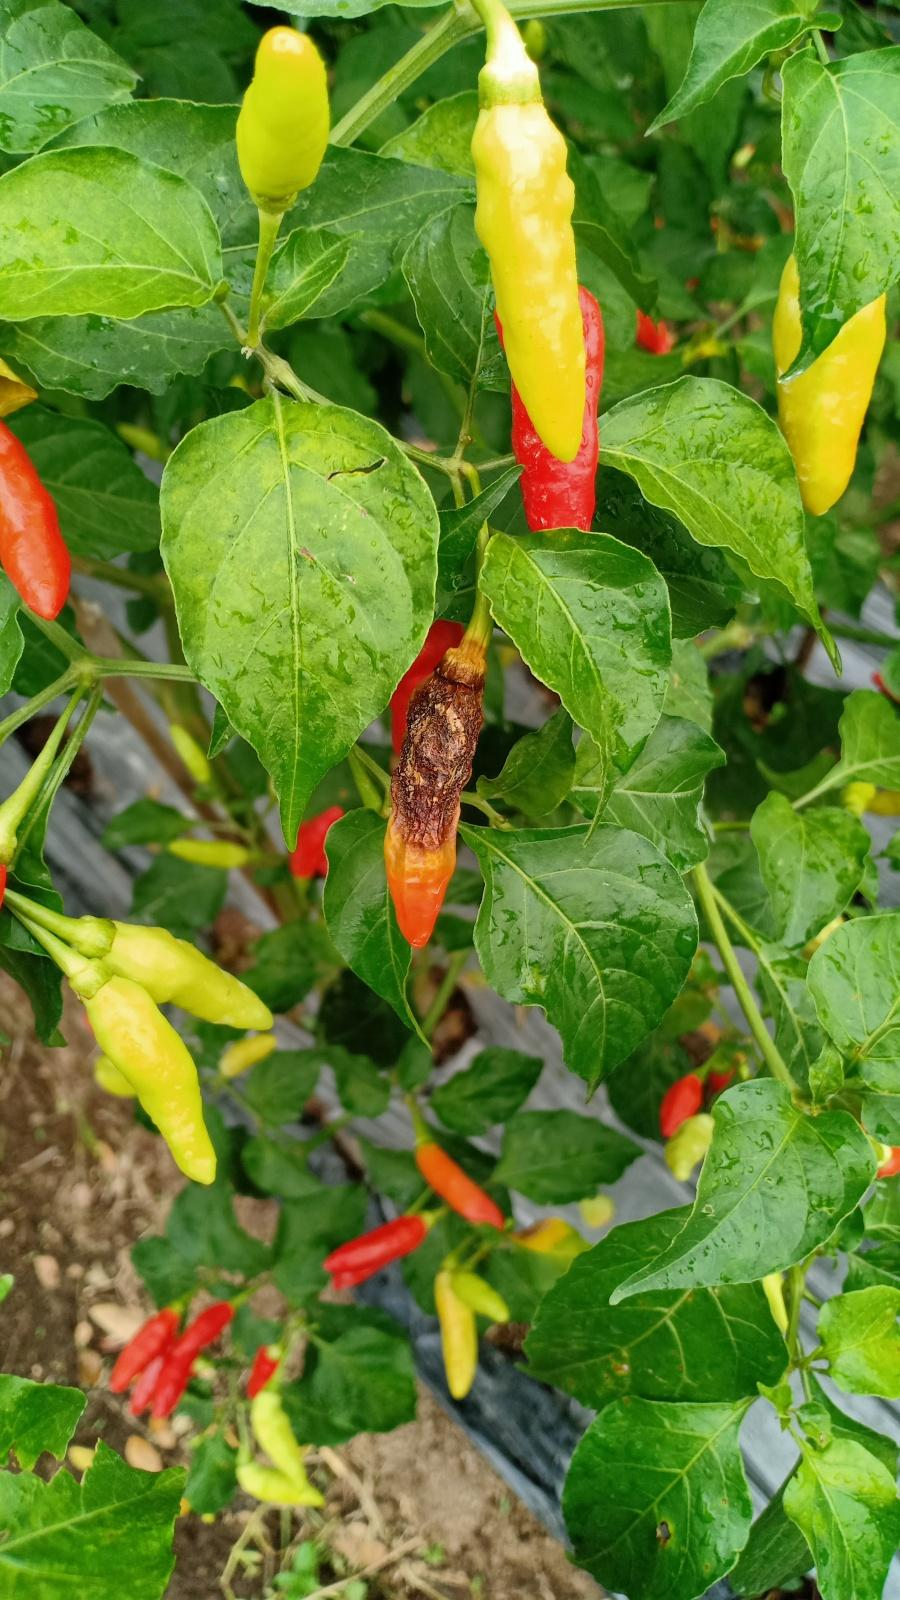antraknosa: (378, 658, 486, 944)
cabai_normal: (473, 100, 599, 451), (480, 299, 608, 530), (775, 247, 884, 512), (90, 976, 219, 1189), (115, 916, 274, 1035), (234, 24, 331, 202), (1, 416, 73, 621), (415, 1142, 512, 1231), (323, 1209, 425, 1278), (430, 1268, 477, 1400), (105, 1305, 182, 1384), (254, 1392, 311, 1477), (241, 1467, 326, 1516), (452, 1266, 512, 1326)
